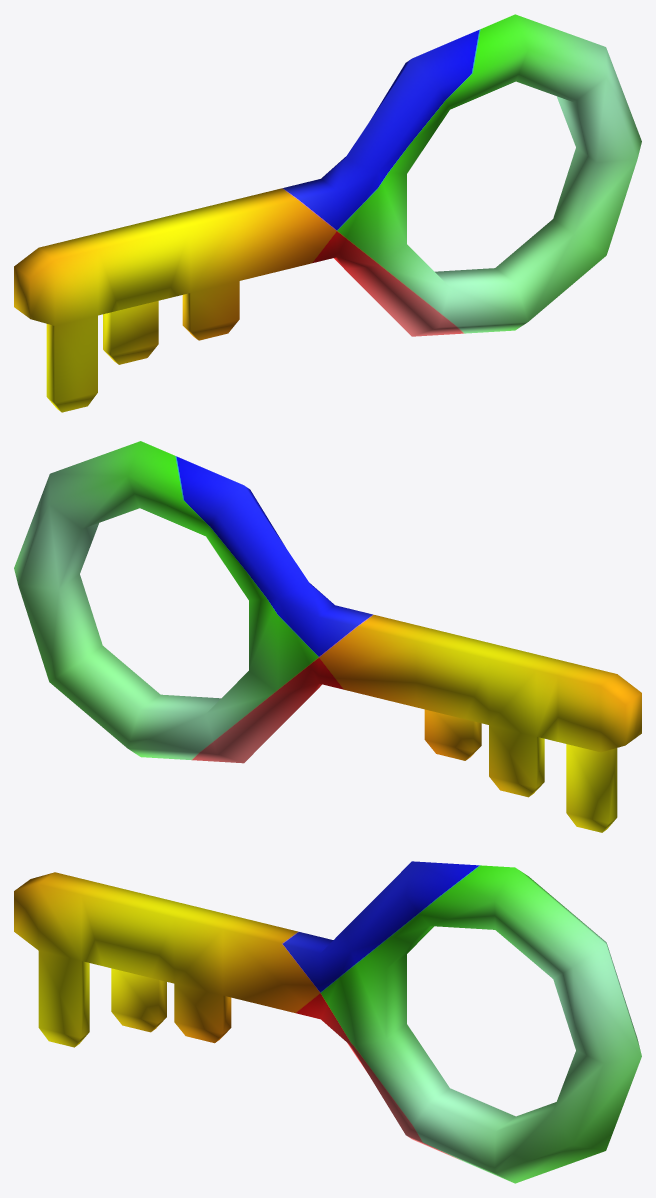
File: key.dae
3 renders of one model, top to bottom at view 1: azimuth 30°, elevation 25°; view 2: azimuth 150°, elevation 25°; view 3: azimuth 330°, elevation 25°, orthographic.
Visible parts, largest first — view 1: Torus_001; view 2: Torus_001; view 3: Torus_001.
Part boxes in pixels (x1,y1,x2,y2): Torus_001: (14, 14, 641, 412); Torus_001: (14, 441, 641, 832); Torus_001: (14, 861, 641, 1183).
Bounding box in the file's own units: 5.05 × 0.4755 × 2.46.
1 material, 1 textured.
